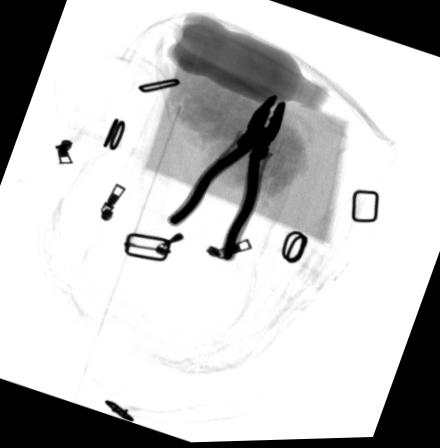Pliers: (164, 92, 287, 262)
